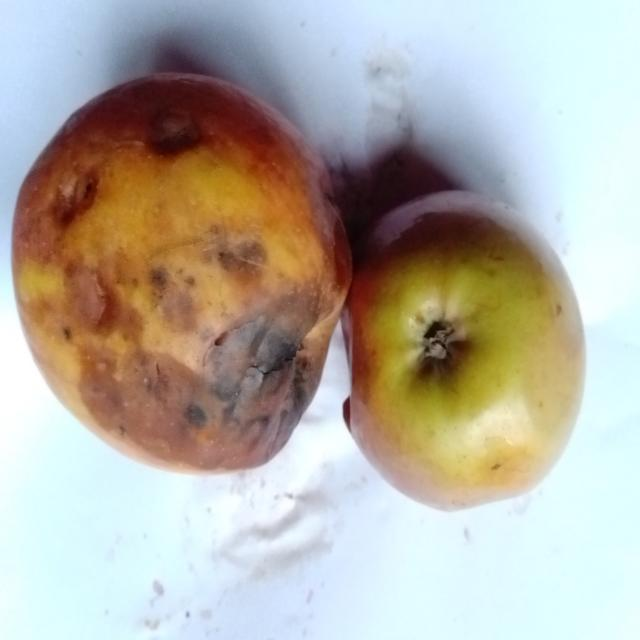apple: (13, 74, 350, 471), (343, 192, 585, 509)
